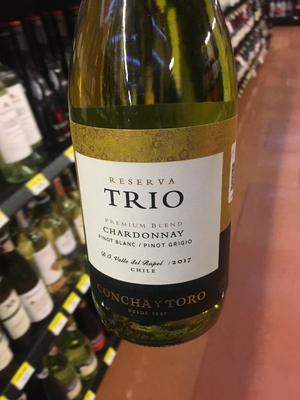trio chardonnay: (57, 26, 241, 351)
